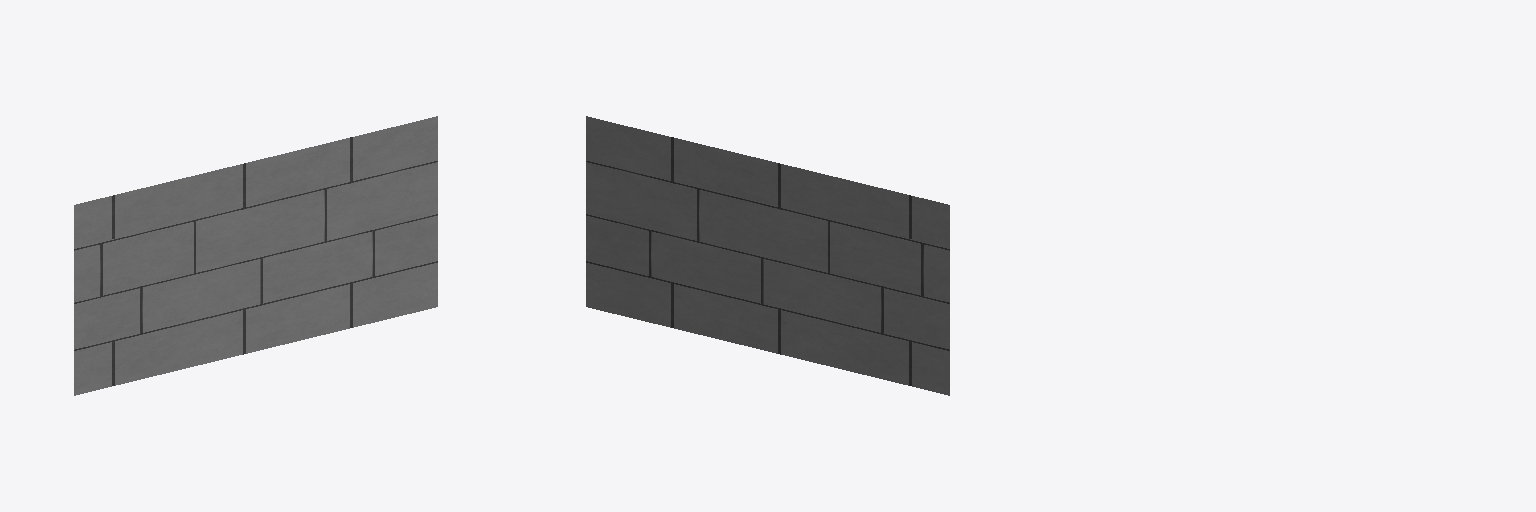
The picture shows the model from 3 angles: view 1: azimuth 30°, elevation 25°; view 2: azimuth 150°, elevation 25°; view 3: azimuth 270°, elevation 25°; orthographic projection.
Parts seen in each view (by area): view 1: 平面; view 2: 平面; view 3: none.
Part boxes in pixels (left/top/right/bottom): 平面: left=74, top=116, right=437, bottom=395; 平面: left=586, top=116, right=949, bottom=395.
Size of the model in its own units: 200 by 100 by 0.
1 materials, 1 textured.